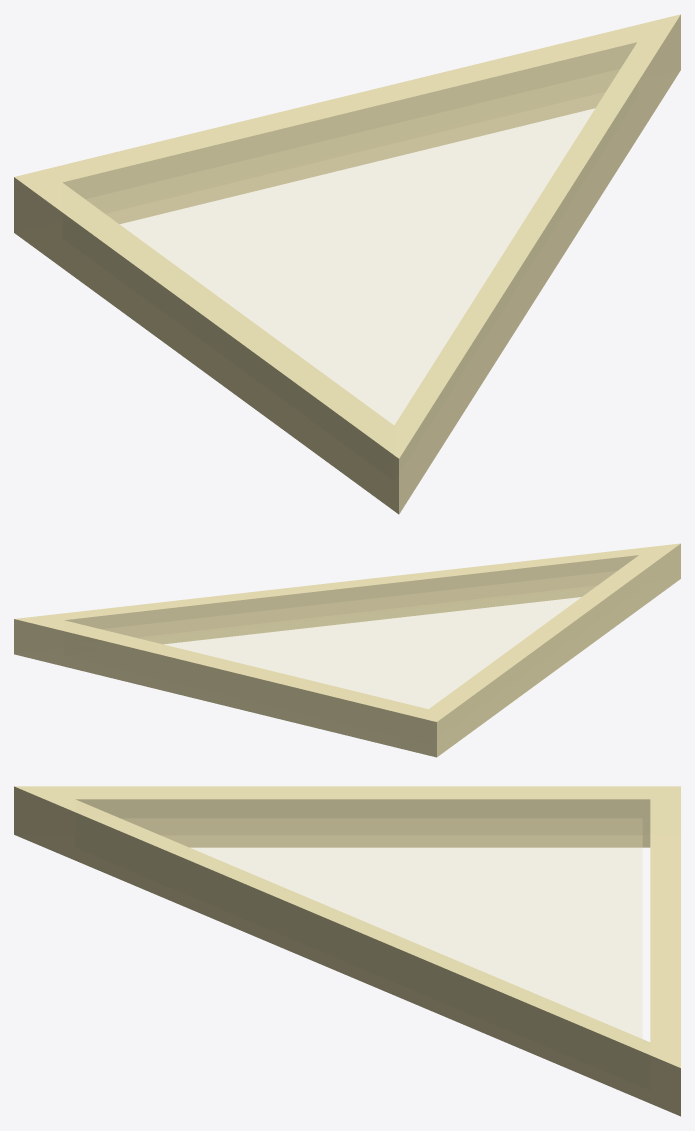
File: tile-right-green.glb
3 views of the same model, one above another, from view 1: azimuth 30°, elevation 25°; view 2: azimuth 150°, elevation 25°; view 3: azimuth 270°, elevation 25° (orthographic). The views are drawn at different scales.
Visible parts, largest first — view 1: tile; view 2: tile; view 3: tile.
Boxes of the visible parts, x1,y1,x2,y2 form: tile: (14, 14, 680, 514); tile: (14, 543, 680, 757); tile: (14, 786, 680, 1116).
Size of the model in its own units: 1 by 0.08 by 1.
